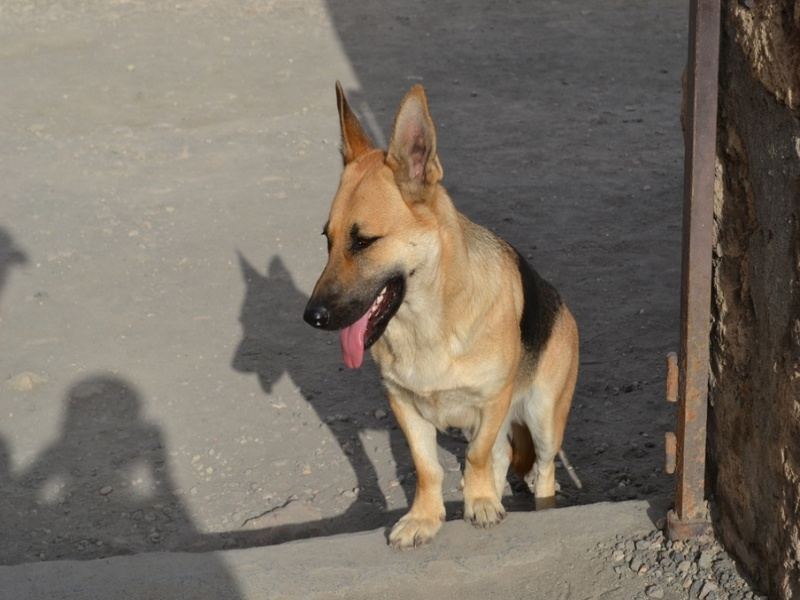dog: (298, 76, 586, 549)
